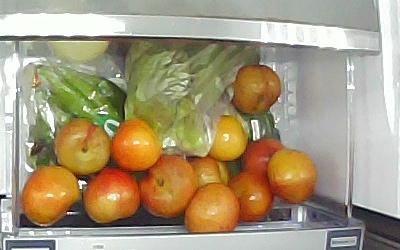prune: (138, 154, 199, 219), (22, 166, 80, 225), (54, 118, 111, 174), (83, 168, 140, 224), (267, 146, 319, 203), (186, 181, 240, 233), (111, 118, 162, 172), (232, 65, 282, 117), (228, 170, 272, 223), (204, 114, 248, 161), (242, 138, 285, 175), (188, 154, 228, 185)
